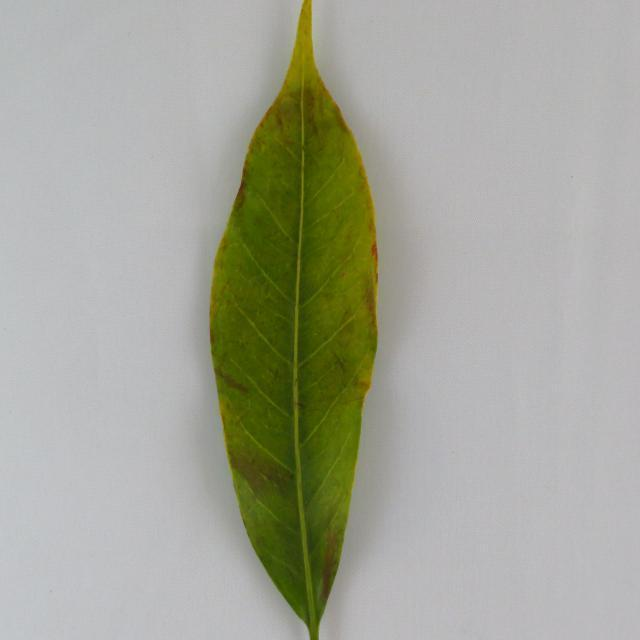DeficienciaNutricional-Nitrogeno: (213, 0, 375, 638)
